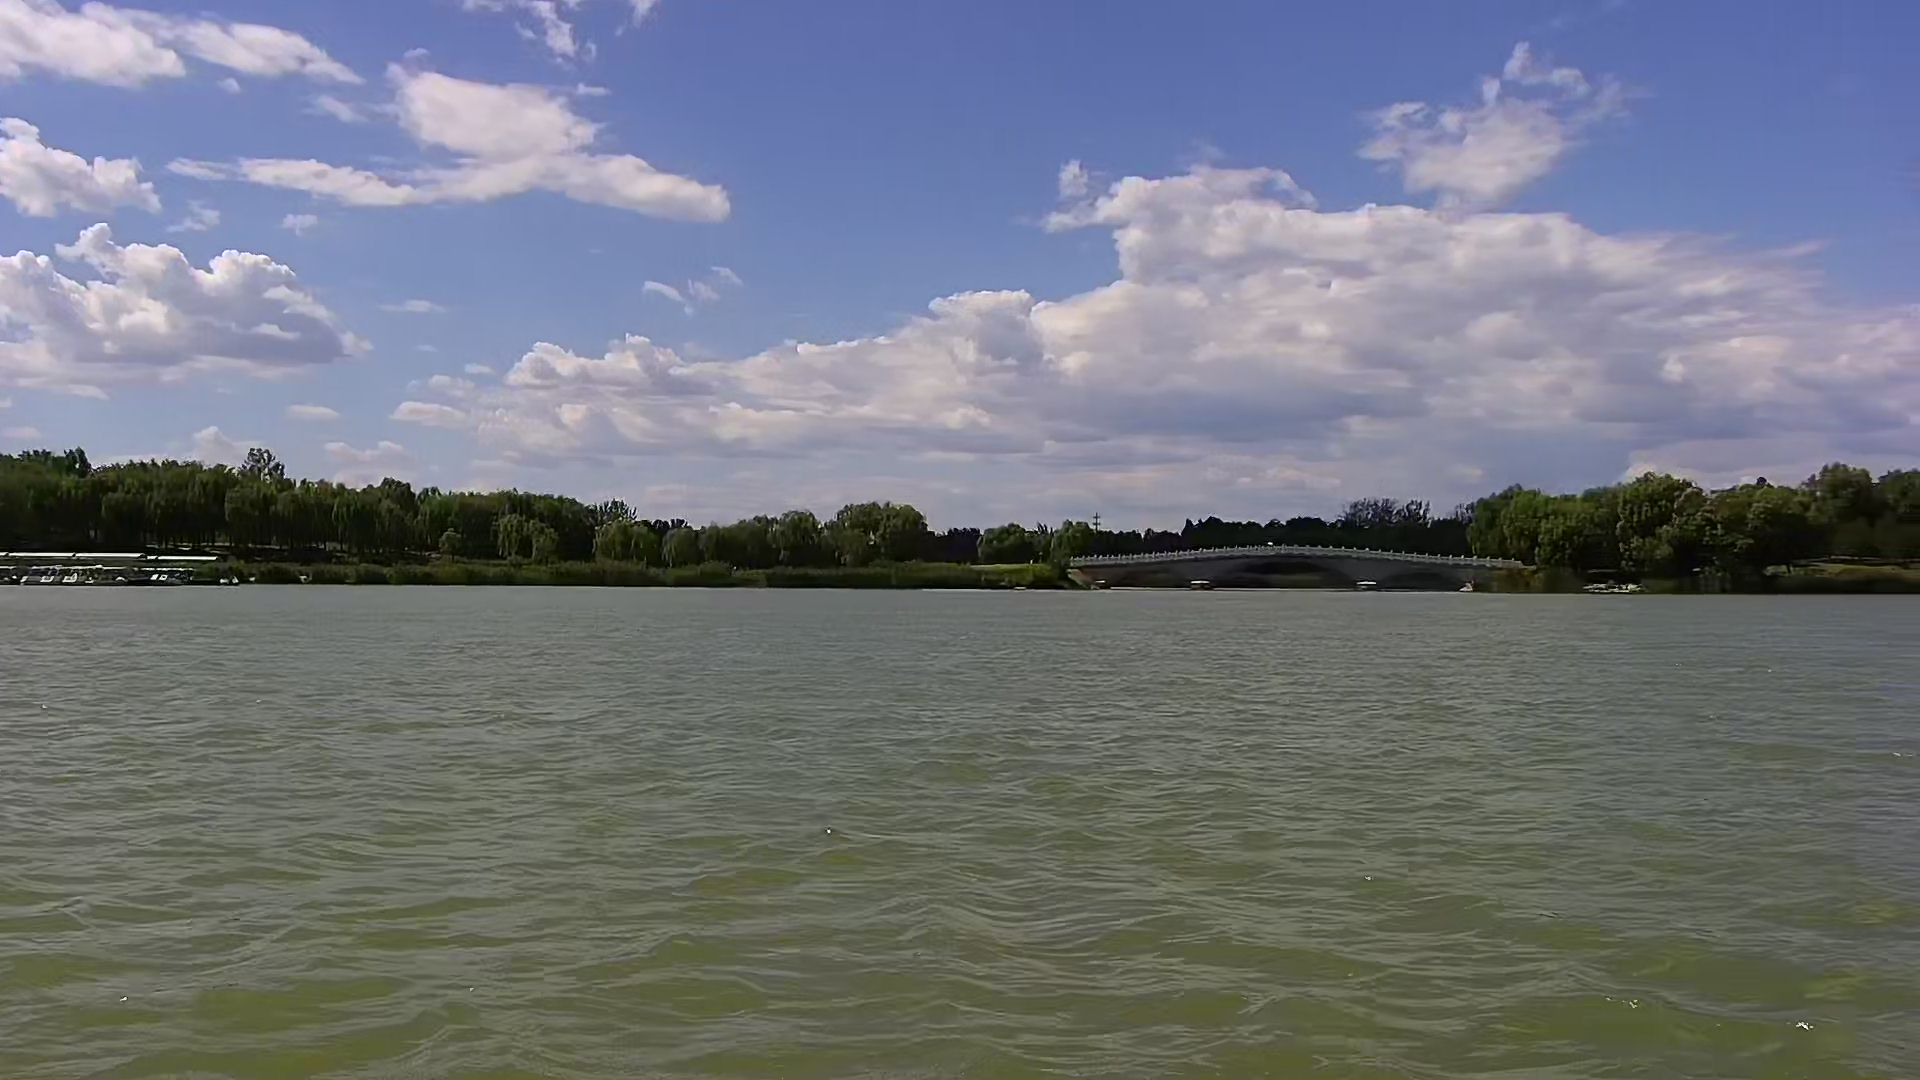bridge: (1068, 541, 1526, 593)
harbor: (1, 549, 214, 591)
